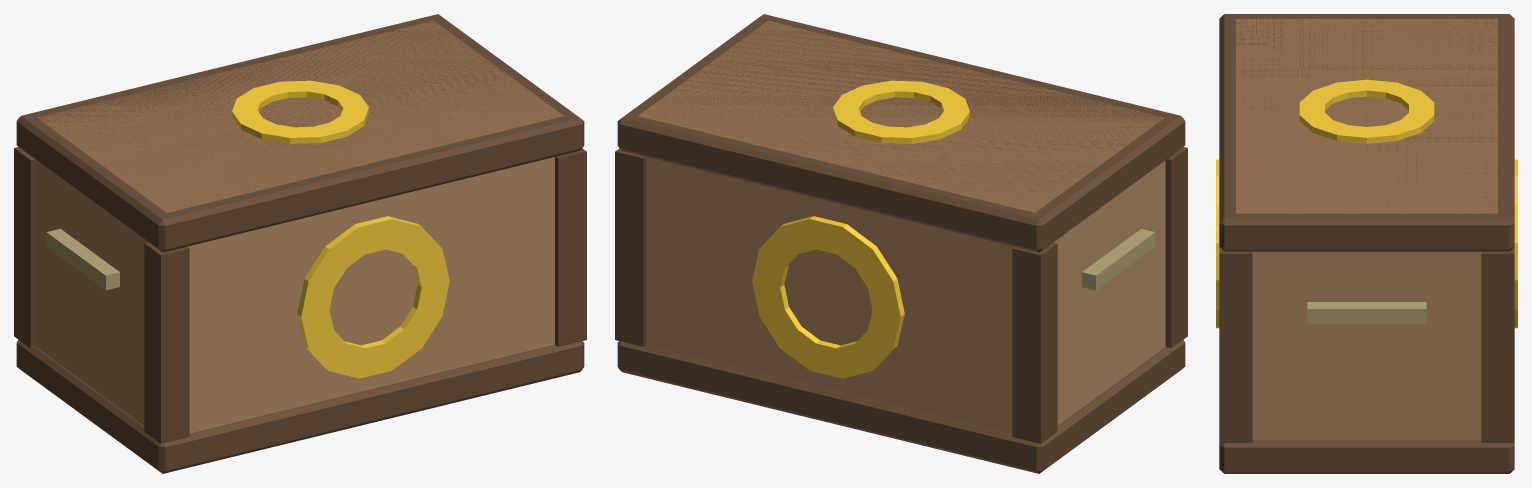
The model's file is crate_large.glb.
3 views of the same model, side by side, from view 1: azimuth 30°, elevation 25°; view 2: azimuth 150°, elevation 25°; view 3: azimuth 270°, elevation 25° (orthographic).
Visible parts, largest first — view 1: LOD0; view 2: LOD0; view 3: LOD0.
Part boxes in pixels (<box>): LOD0: <box>14,14,586,473</box>; LOD0: <box>615,14,1187,473</box>; LOD0: <box>1216,14,1517,473</box>.
Bounding box in the file's own units: 1.57 × 0.8751 × 0.91.
Materials: 1 (1 with a texture image).
